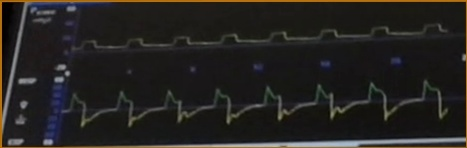Premature_cycling Flow: (64, 77, 449, 134)
